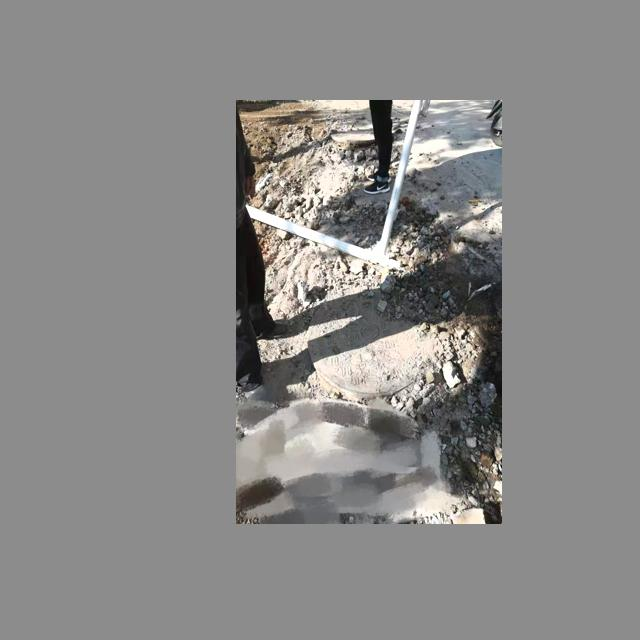circle: (290, 284, 458, 419)
